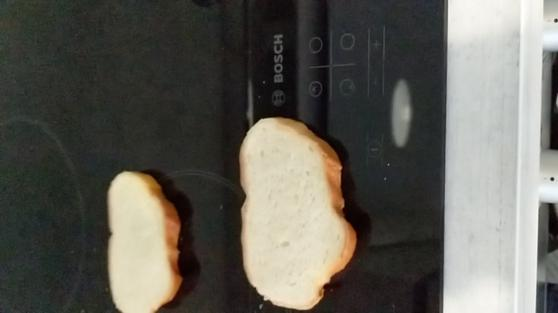white_bread: (239, 117, 357, 310), (104, 171, 183, 313)
